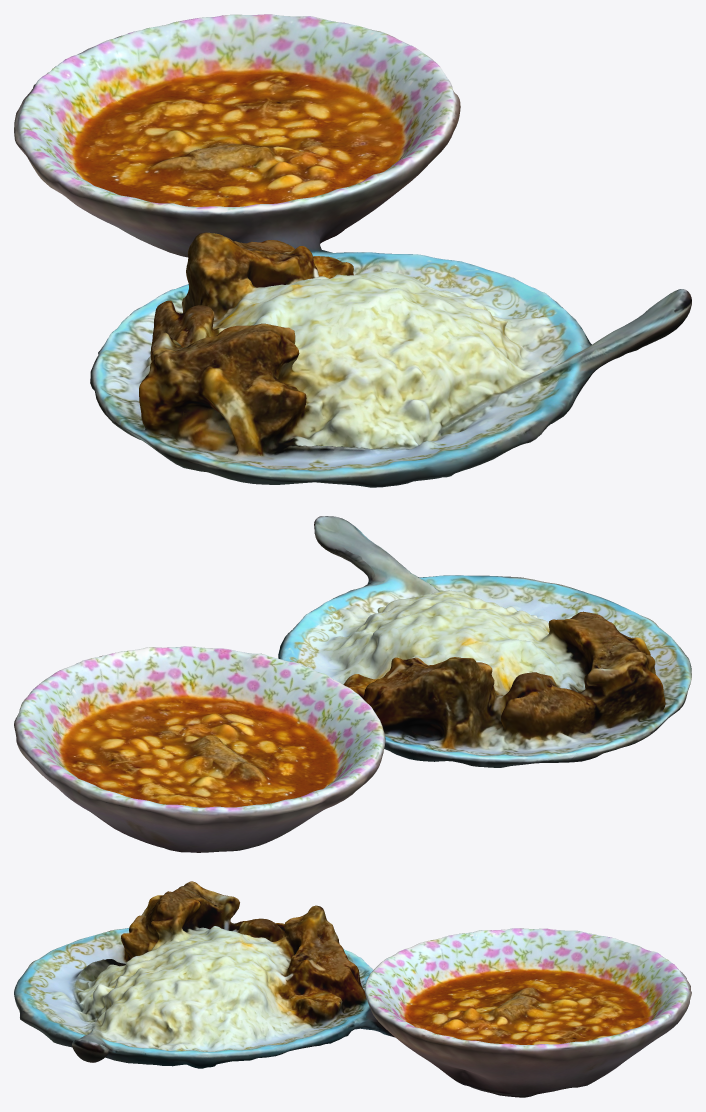
File: rice.glb
3 renders of one model, top to bottom at view 1: azimuth 30°, elevation 25°; view 2: azimuth 150°, elevation 25°; view 3: azimuth 270°, elevation 25°, orthographic. The views are drawn at different scales.
Visible parts, largest first — view 1: 3DModel; view 2: 3DModel; view 3: 3DModel.
Boxes of the visible parts, x1,y1,x2,y2 form: 3DModel: [14, 14, 691, 487]; 3DModel: [14, 516, 691, 852]; 3DModel: [14, 881, 691, 1097].
Bounding box in the file's own units: 0.4785 × 0.1242 × 0.727.
1 material, 1 textured.
